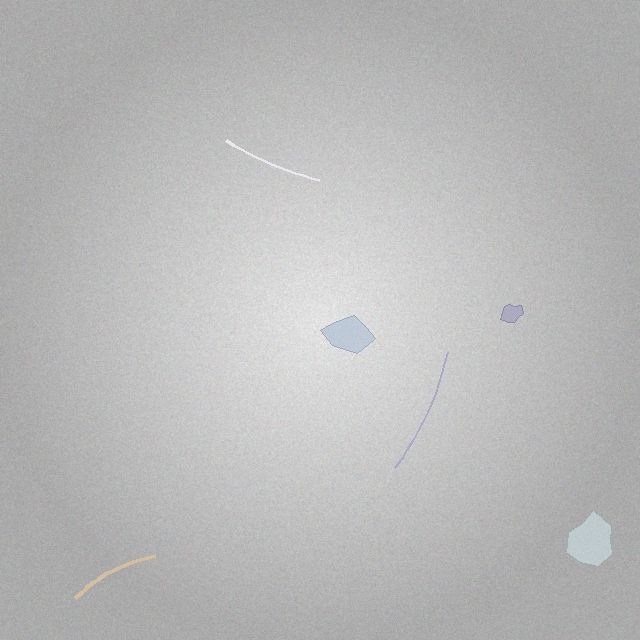fiber: (393, 350, 449, 470), (223, 138, 323, 184), (72, 553, 159, 603)
fragment: (566, 511, 612, 567), (320, 316, 376, 353), (501, 304, 523, 323)
